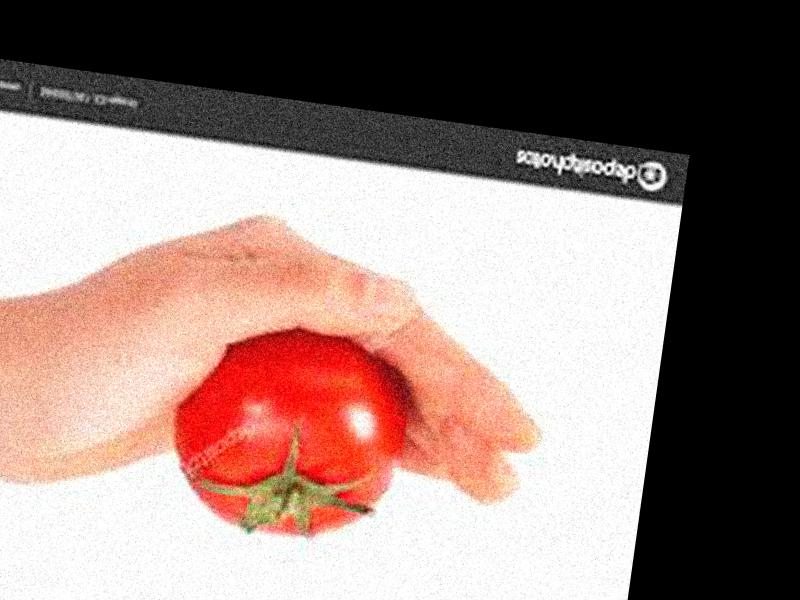Tomato: (159, 318, 410, 547)
